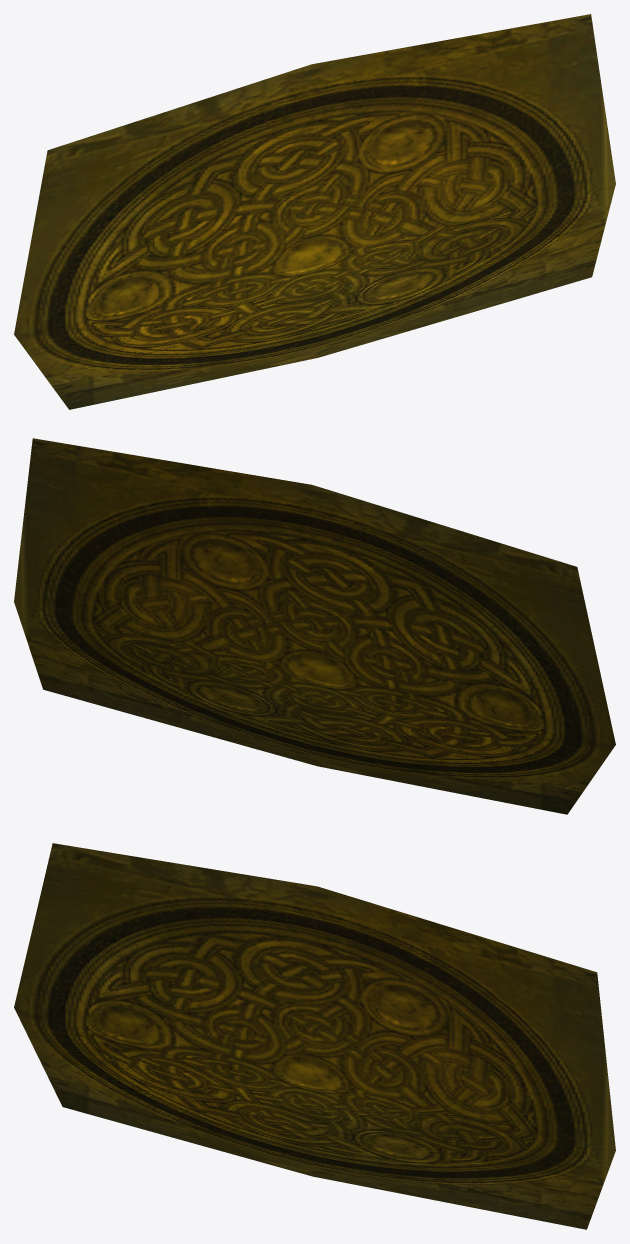
The model's file is CH09_SMAUG_PLAYSURFACE_LAIR85.fbx.
The picture shows the model from 3 angles, top to bottom: view 1: azimuth 30°, elevation 25°; view 2: azimuth 150°, elevation 25°; view 3: azimuth 330°, elevation 25°; orthographic projection.
Parts seen in each view (by area): view 1: CH09_SMAUG_PLAYSURFACE_LAIR85; view 2: CH09_SMAUG_PLAYSURFACE_LAIR85; view 3: CH09_SMAUG_PLAYSURFACE_LAIR85.
Boxes of the visible parts, x1,y1,x2,y2 form: CH09_SMAUG_PLAYSURFACE_LAIR85: [14, 14, 615, 409]; CH09_SMAUG_PLAYSURFACE_LAIR85: [14, 438, 615, 814]; CH09_SMAUG_PLAYSURFACE_LAIR85: [14, 843, 615, 1229].
Bounding box in the file's own units: 106415 × 48580 × 3005.
1 material, 1 textured.
